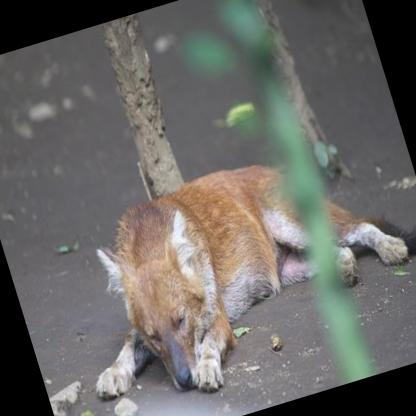dhole: (42, 114, 416, 416)
